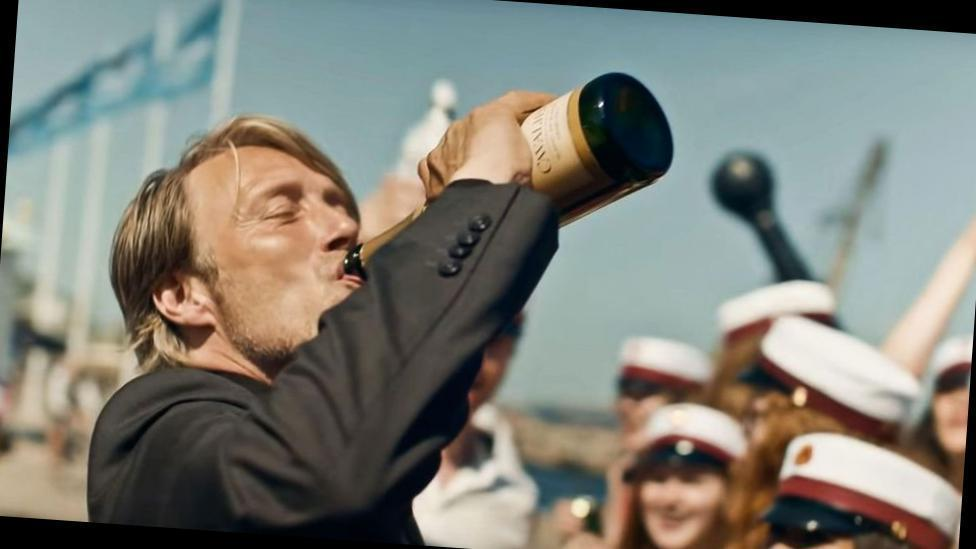Drunk: (215, 153, 365, 331)
